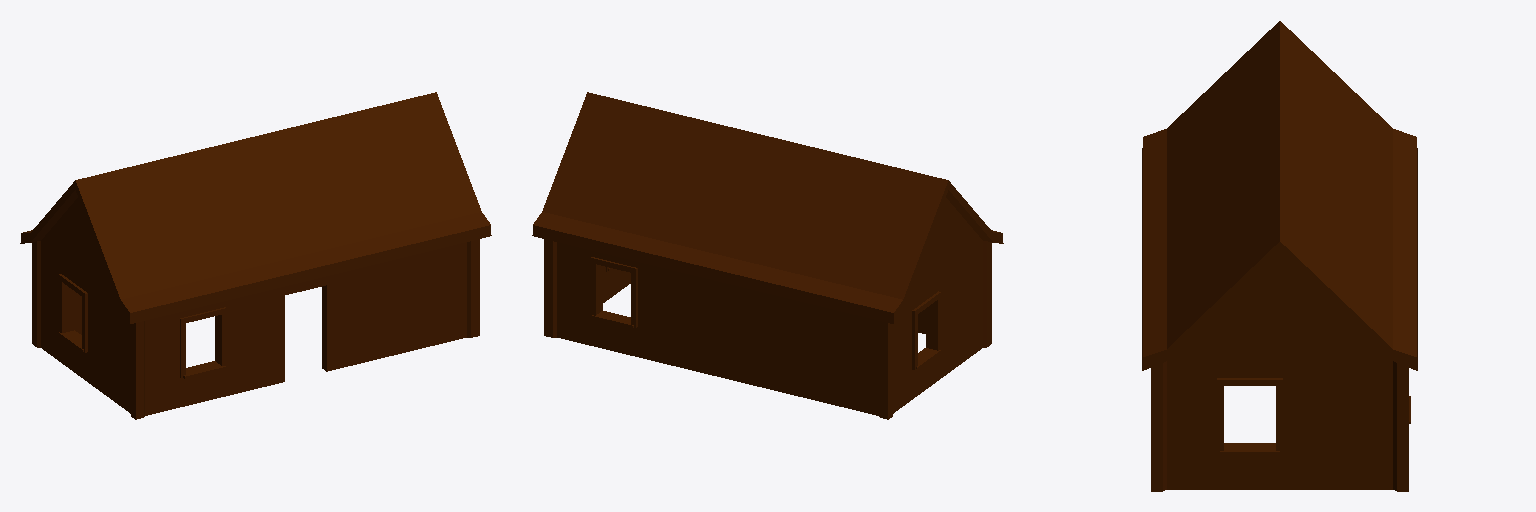
URDF robot description (cabin):
<?xml version="1.0" ?>

<robot name="cabin" xmlns:xacro="http://ros.org/wiki/xacro">
  <gazebo>
    <static>true</static>
  </gazebo>
  <link name="cabin">
    <!--MAIN_BODY-->
    <visual>
      <origin rpy="0 0 0" xyz="0 0 0"/>
      <geometry>
        <mesh filename="package://iai_outdoor_models/models/cabin/cabin.stl"/>
      </geometry>
      <material name="IAI_RESCUE/cabin">
       <color rgba="0.31 0.15 0.033 1.0"/>
     </material>
    </visual>
    <collision>
      <origin rpy="0 0 0" xyz="0 0 0"/>
      <geometry>
        <mesh filename="package://iai_outdoor_models/models/cabin/cabin.stl"/>
      </geometry>
    </collision>
    <inertial>
      <mass value=".1"/>
      <origin xyz="0 0 0"/>
      <inertia ixx="0.001" ixy="0.0" ixz="0.0" iyy="0.001" iyz="0.0" izz="0.001"/>
    </inertial>
  </link>
</robot>
 

--- What the picture shows (computed from the rendered views, not written in the file) ---
Views: 3 orthographic renders of the robot side by side, from view 1: azimuth 30°, elevation 25°; view 2: azimuth 150°, elevation 25°; view 3: azimuth 270°, elevation 25°.
Robot: cabin — 1 links, 0 joints (none); root link cabin; default pose: all joints at 0.
Visible links, largest first — view 1: cabin; view 2: cabin; view 3: cabin.
Link boxes in pixels (<box>): cabin: <box>20,92,491,419</box>; cabin: <box>532,92,1003,419</box>; cabin: <box>1142,21,1417,491</box>.
Size in the robot's own frame: 8.75 by 4.61 by 4.72 metres.
Meshes: 1 distinct files referenced, 1 mesh visuals loaded (1 binary STL).